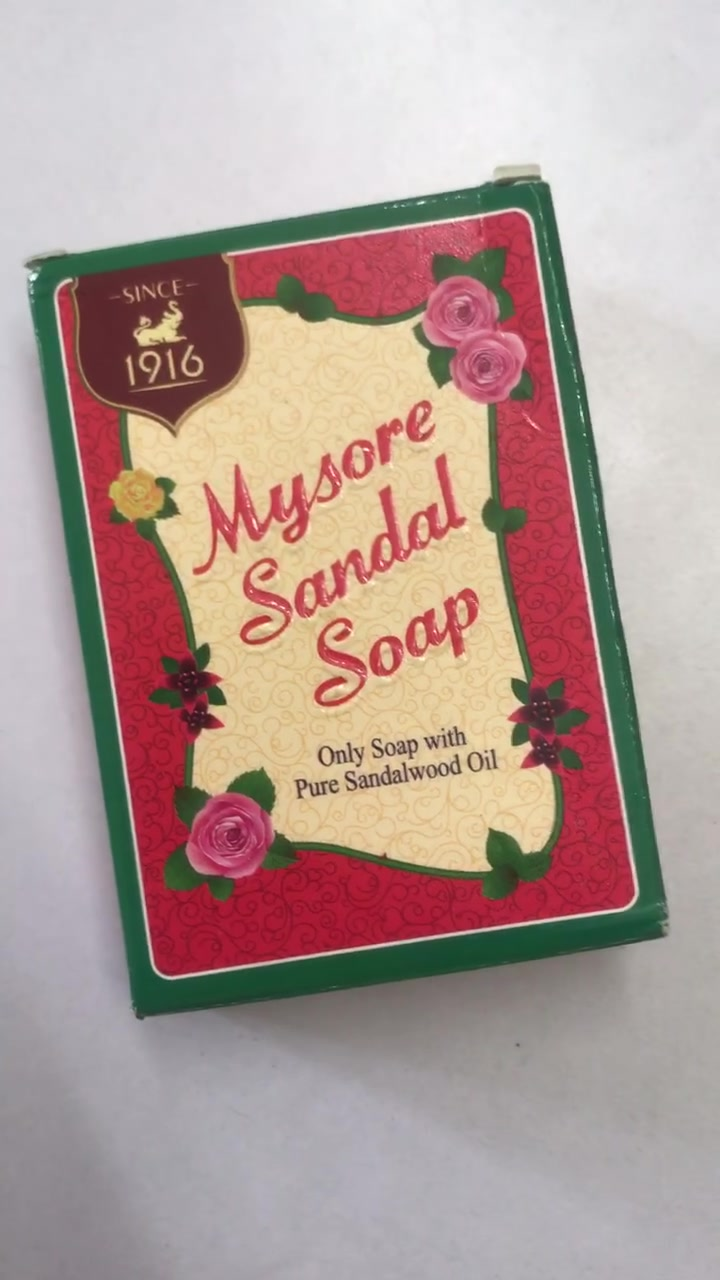mysore sandal soap: (27, 189, 678, 1020)
